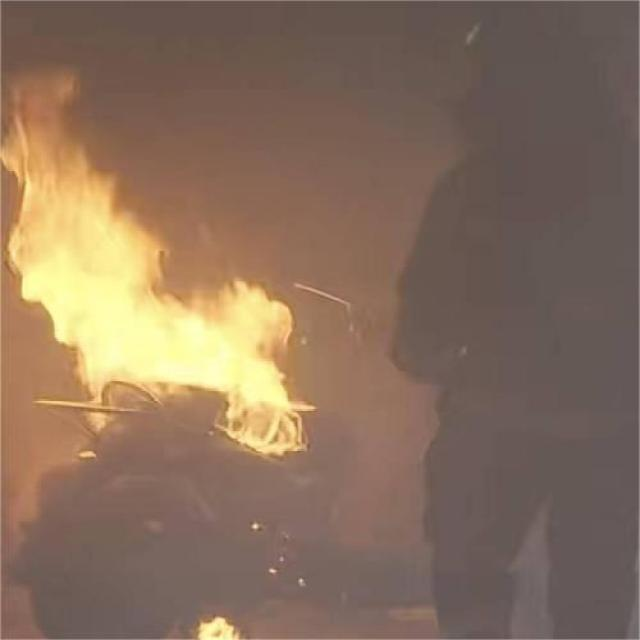Fire: (0, 70, 311, 457)
